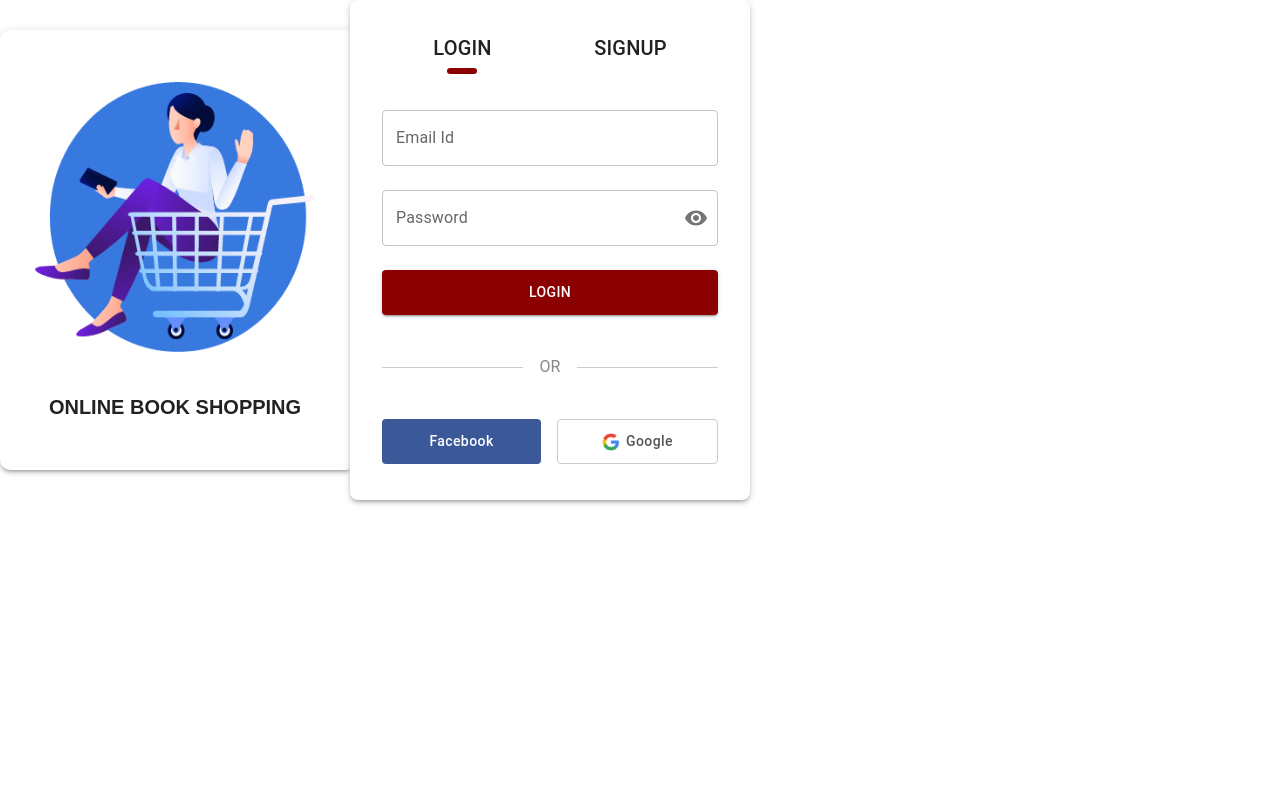
it: AuthCard Component › shows error when email and password are empty
The image size is (1280, 800).
# Simulate clicking the Login button without filling fields
Click the button "Login" at (550, 292), box [382,270,718,315]
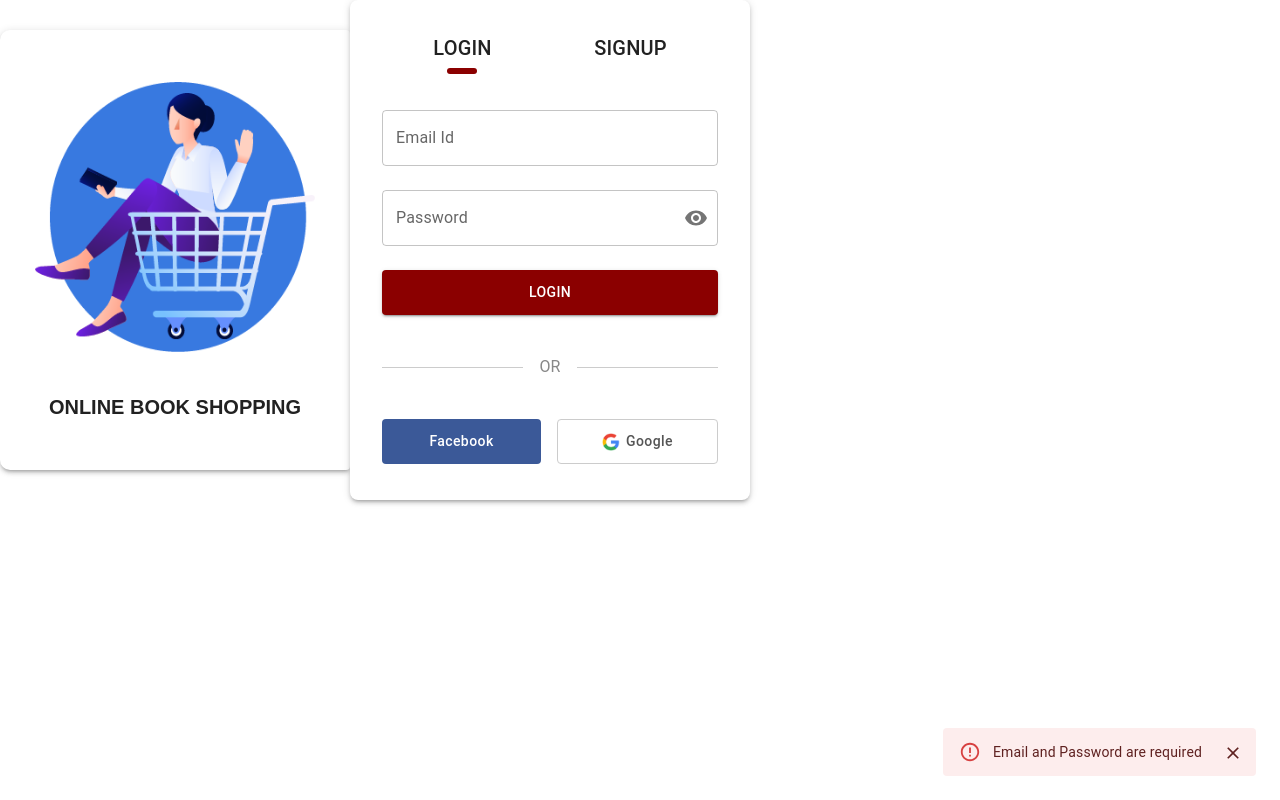
Now the text "Email and Password are required" is shown, box [993,744,1202,760]
